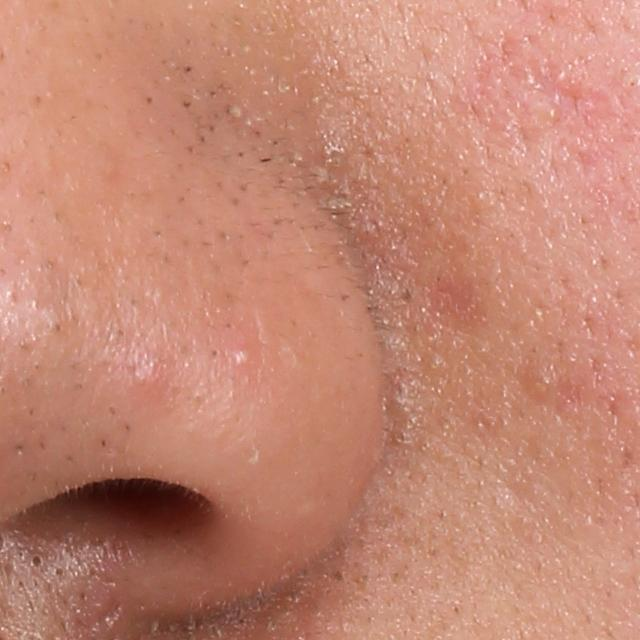pustule: (231, 346, 255, 373)
